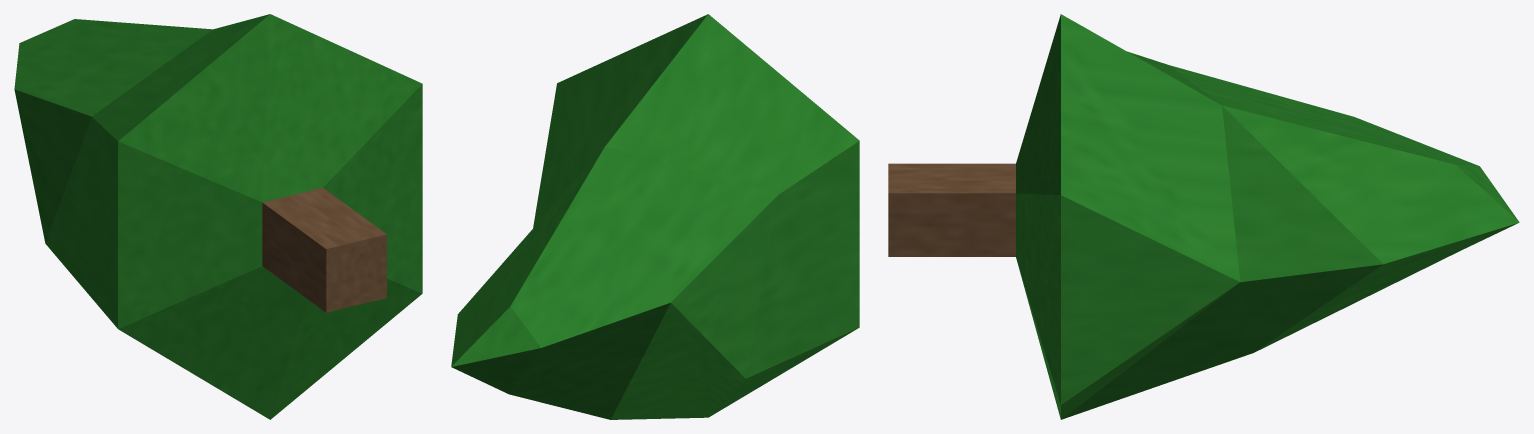
Rendered from all_share_tree_8.FBX.
3 renders of one model, left to right at view 1: azimuth 30°, elevation 25°; view 2: azimuth 150°, elevation 25°; view 3: azimuth 270°, elevation 25°, orthographic.
Visible parts, largest first — view 1: tree_9; view 2: tree_9; view 3: tree_9.
Part boxes in pixels (box(x1,y1,x2,y2)): tree_9: box(14, 14, 422, 419); tree_9: box(451, 14, 859, 419); tree_9: box(888, 14, 1519, 419).
Size of the model in its own units: 126 by 161 by 227.
